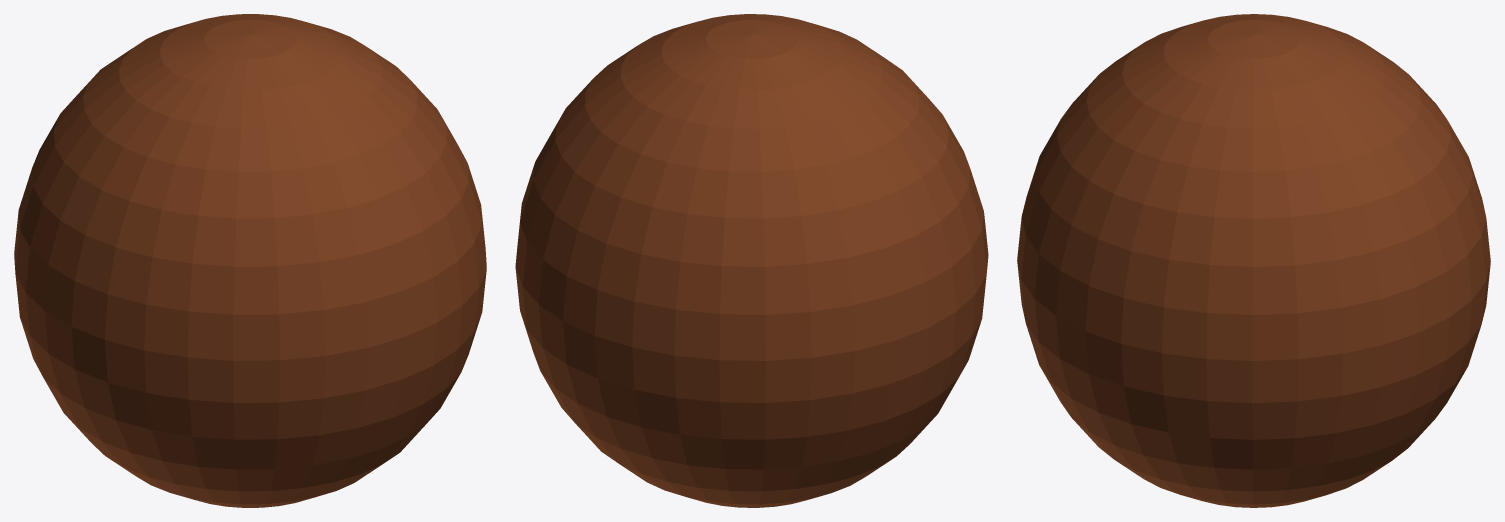
The model's file is coconut.glb.
The picture shows the model from 3 angles, left to right: view 1: azimuth 30°, elevation 25°; view 2: azimuth 150°, elevation 25°; view 3: azimuth 270°, elevation 25°; orthographic projection.
Parts seen in each view (by area): view 1: Coconut; view 2: Coconut; view 3: Coconut.
Boxes of the visible parts, x1,y1,x2,y2 form: Coconut: (14, 14, 486, 507); Coconut: (515, 14, 988, 507); Coconut: (1017, 14, 1490, 507).
Bounding box in the file's own units: 1.08 × 1.14 × 1.08.
